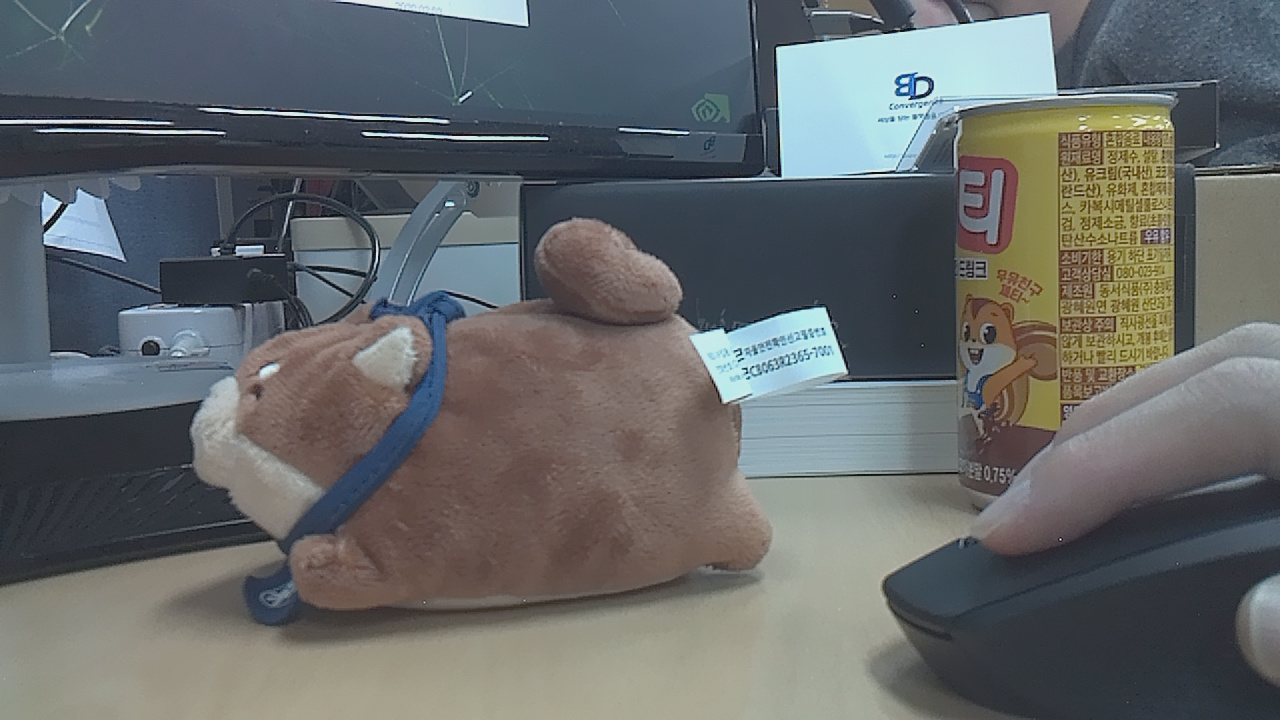cuteDog: (153, 219, 805, 639)
